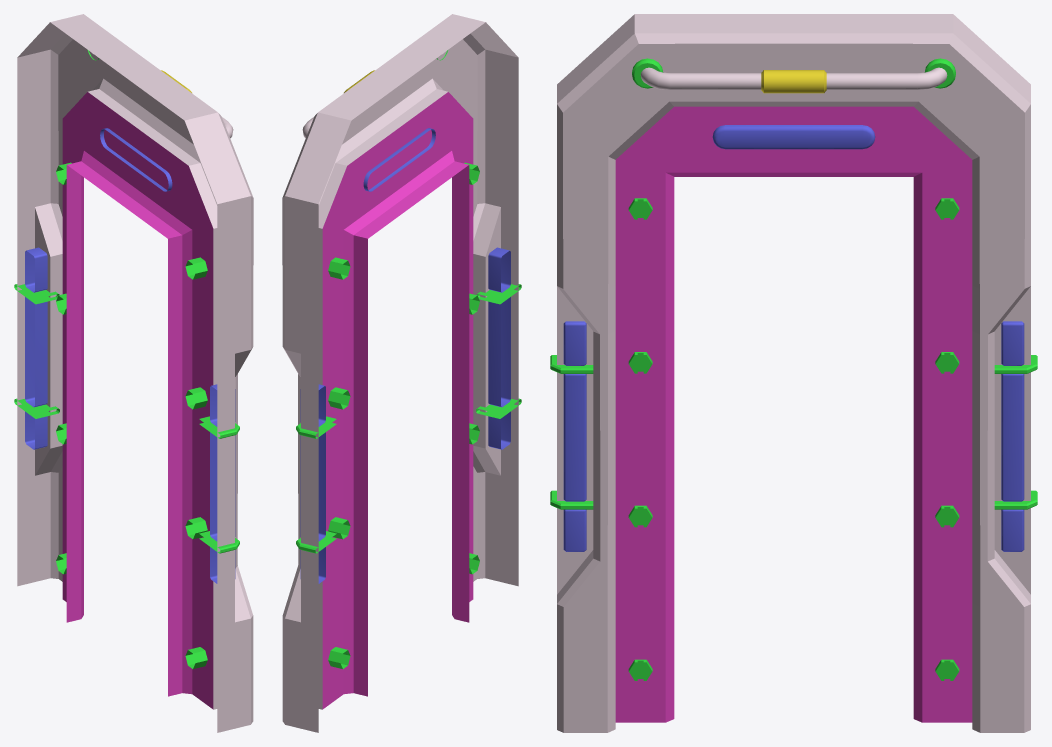
File: SM_Door.fbx
3 renders of one model, left to right at view 1: azimuth 30°, elevation 25°; view 2: azimuth 150°, elevation 25°; view 3: azimuth 270°, elevation 25°, orthographic. The views are drawn at different scales.
Visible parts, largest first — view 1: Cube.002; view 2: Cube.002; view 3: Cube.002.
Boxes of the visible parts, x1=… form: Cube.002: x1=14, y1=14, x2=253, y2=732; Cube.002: x1=282, y1=14, x2=521, y2=732; Cube.002: x1=550, y1=14, x2=1037, y2=732.
Size of the model in its own units: 71.74 by 642 by 407.
